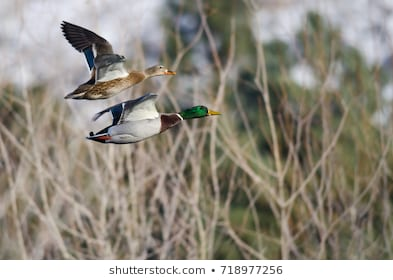duck: (46, 19, 181, 105), (61, 92, 244, 152)
